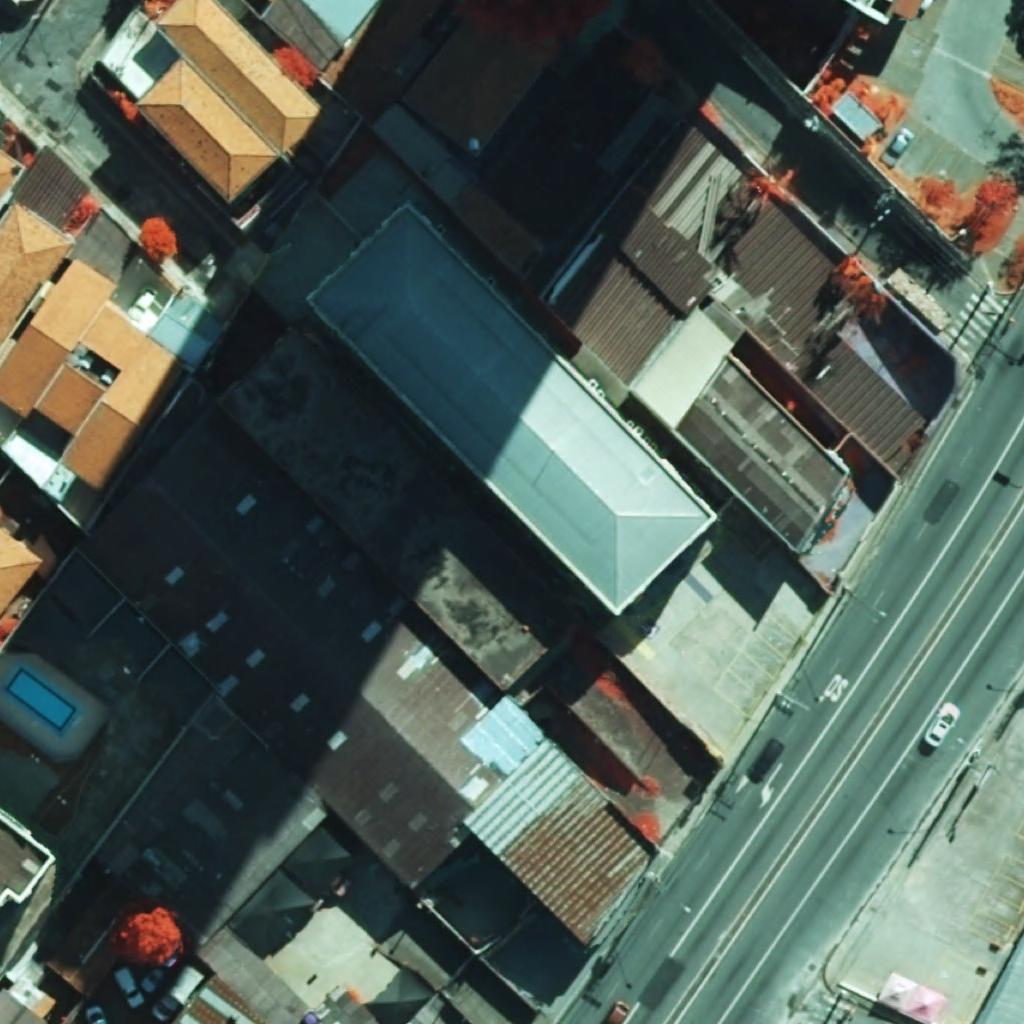pool: (5, 667, 77, 732)
